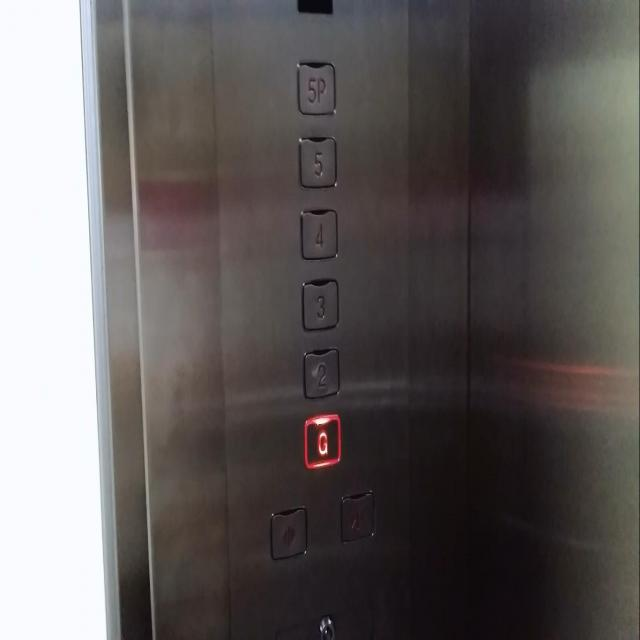2: (302, 343, 339, 401)
3: (299, 276, 341, 332)
4: (296, 204, 342, 261)
5: (296, 132, 340, 192)
5P: (296, 57, 338, 121)
G: (303, 414, 342, 474)
close: (338, 487, 378, 546)
open: (267, 505, 310, 560)
